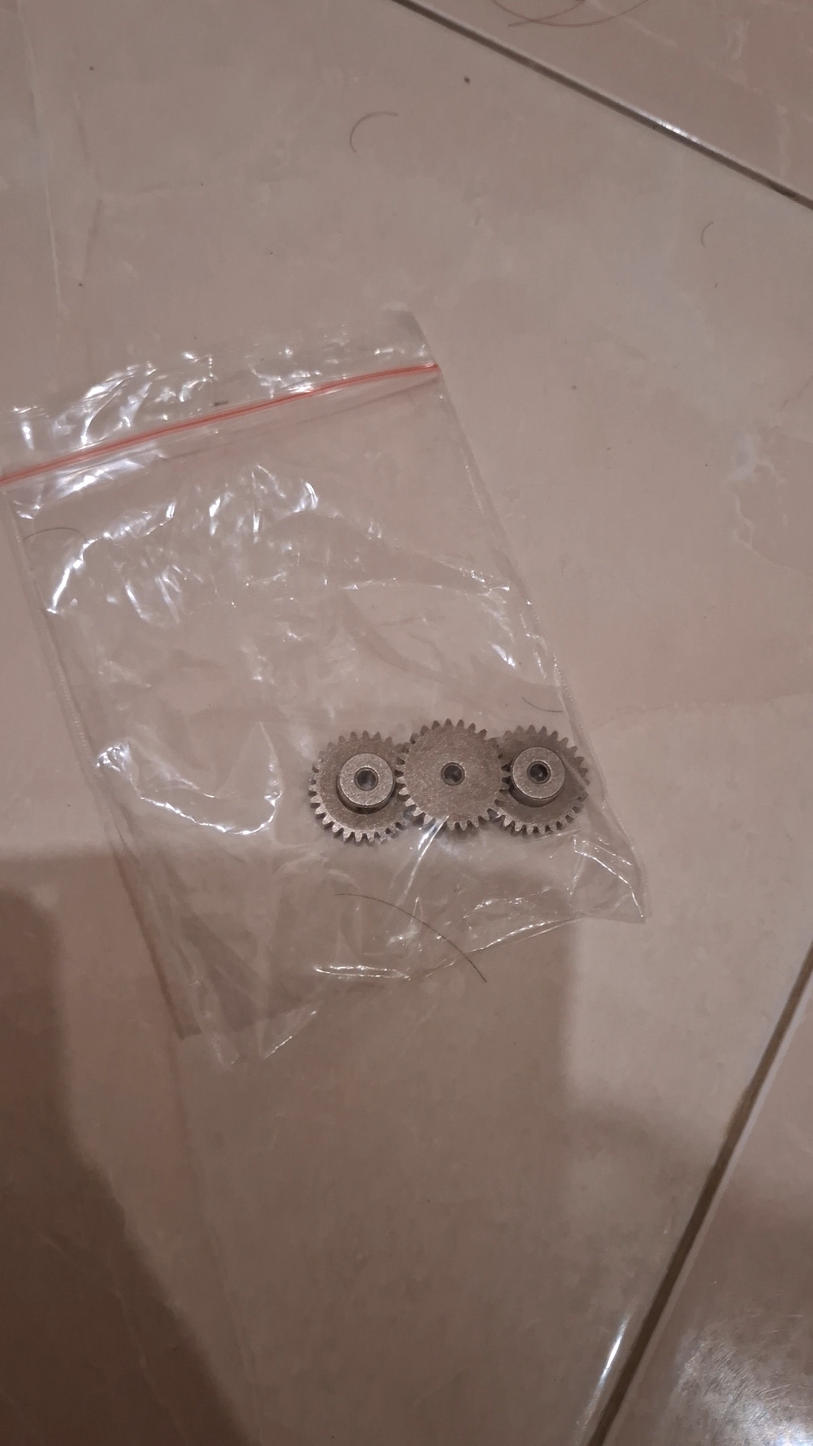spur gear: (397, 720, 503, 830), (309, 731, 405, 843), (496, 727, 588, 834)
